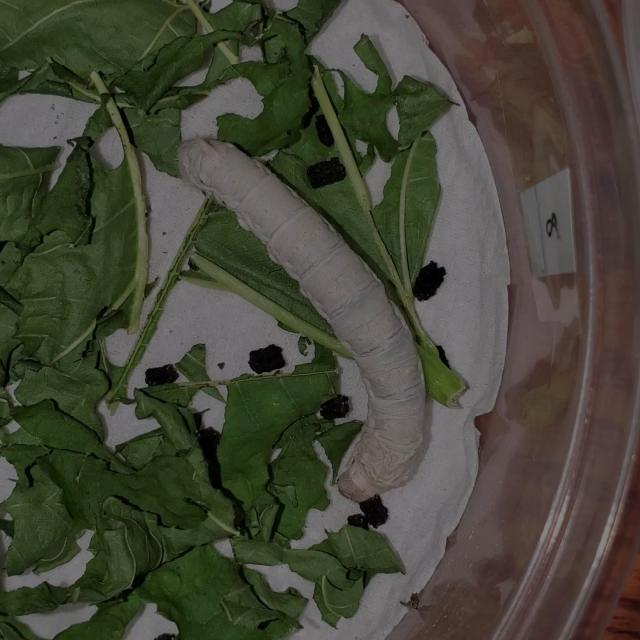Healthy: (157, 101, 481, 532)
